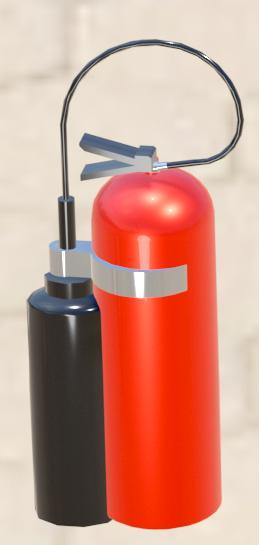Fire Extinguisher: (17, 23, 259, 537)
